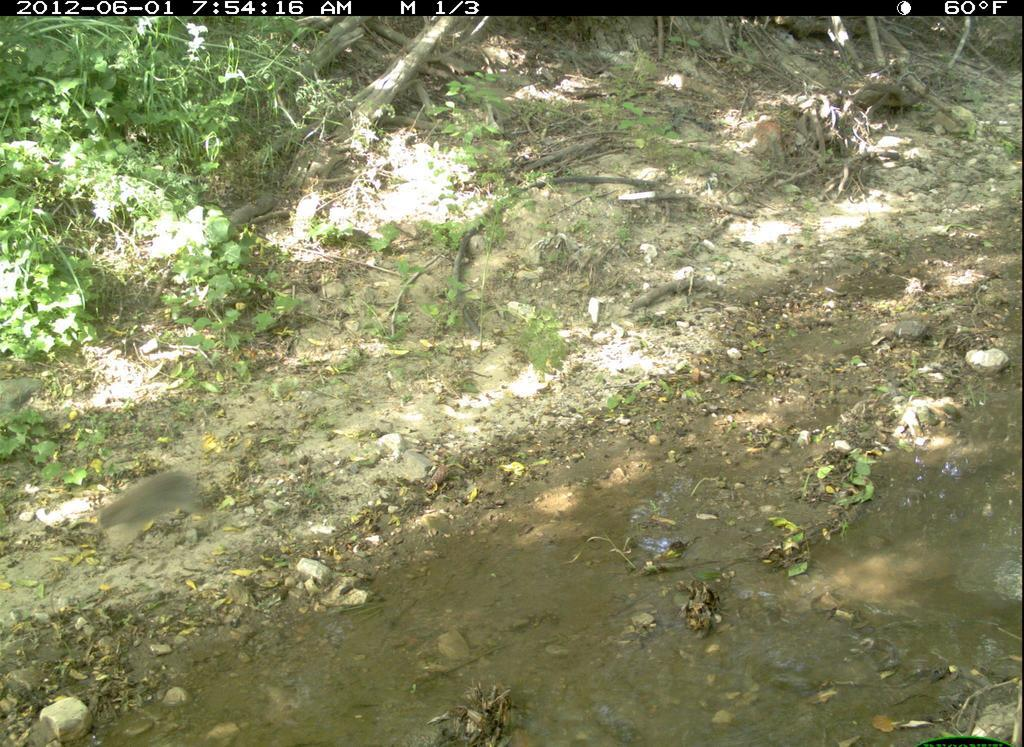rabbit: (93, 466, 219, 566)
